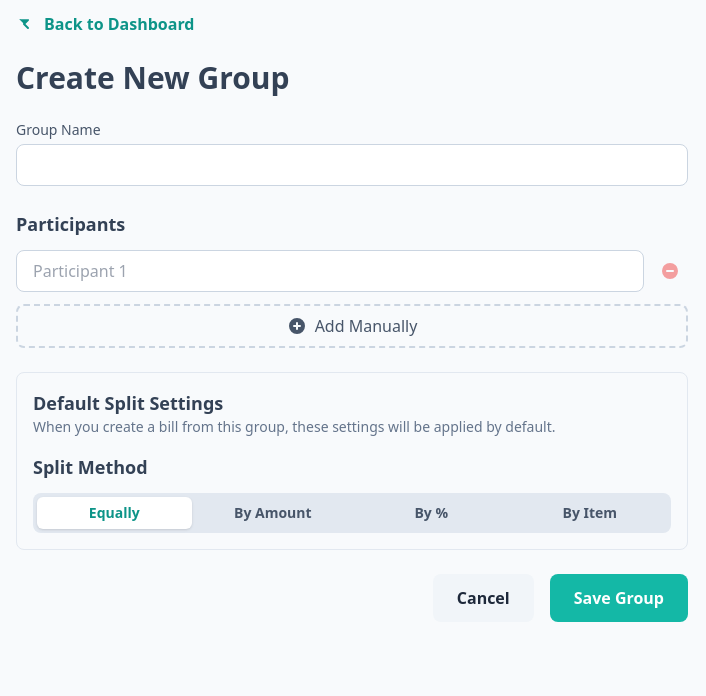
Test: CreateGroup › validates group name is not empty on save
The width and height of the screenshot is (706, 696).
Click the button "Save Group".
click(619, 598)  # box top-left (550, 574), bottom-right (688, 622)
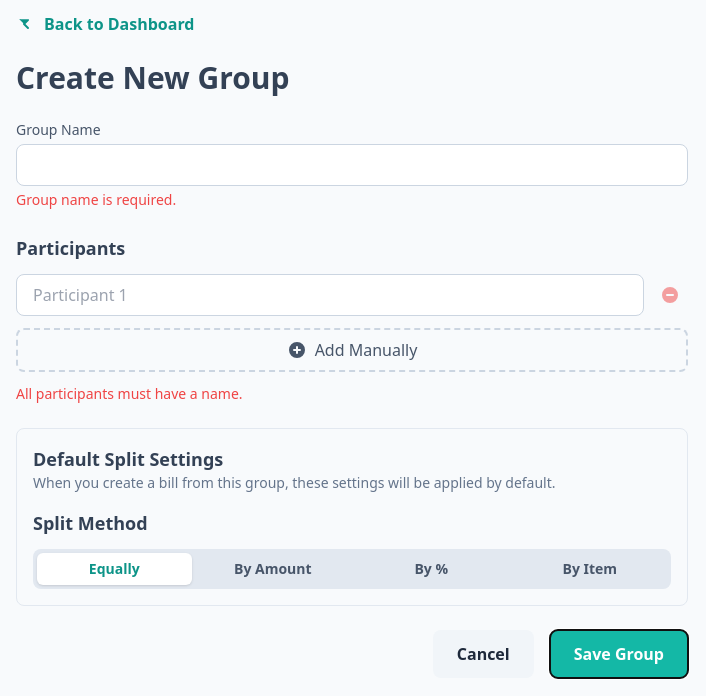
Result: the text "Group name is required." is shown at top-left (16, 190), bottom-right (176, 209)
